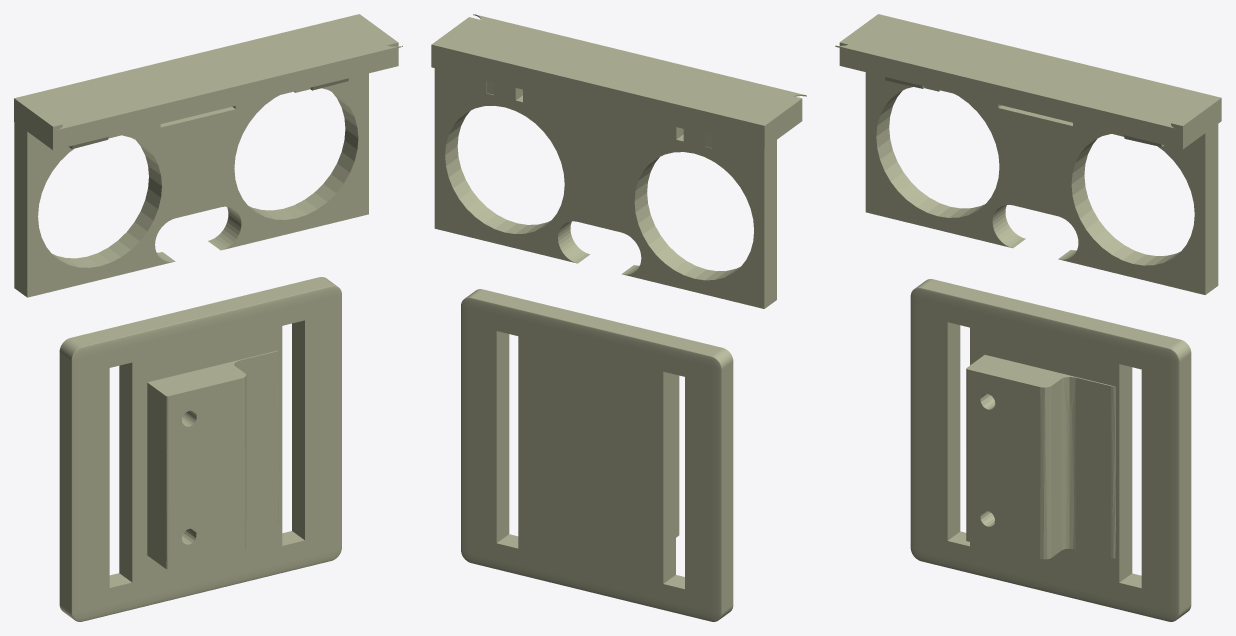
The model's file is tinker.obj.
The picture shows the model from 3 angles, left to right: view 1: azimuth 30°, elevation 25°; view 2: azimuth 150°, elevation 25°; view 3: azimuth 330°, elevation 25°; orthographic projection. The views are drawn at different scales.
Parts seen in each view (by area): view 1: obj_0; view 2: obj_0; view 3: obj_0.
Boxes of the visible parts, bbox=[...] form: obj_0: bbox=[14, 14, 402, 621]; obj_0: bbox=[431, 14, 806, 621]; obj_0: bbox=[835, 14, 1221, 621].
Size of the model in its own units: 46 by 67.17 by 10.
